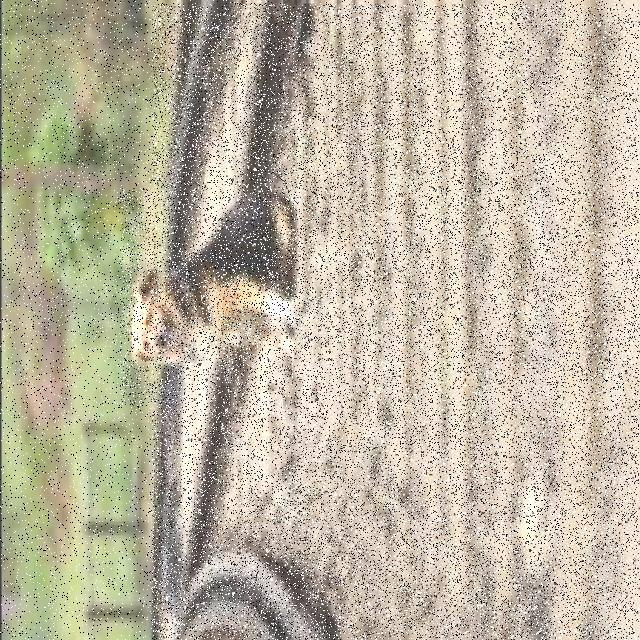danger: (120, 188, 302, 406)
rail: (152, 4, 639, 640)
